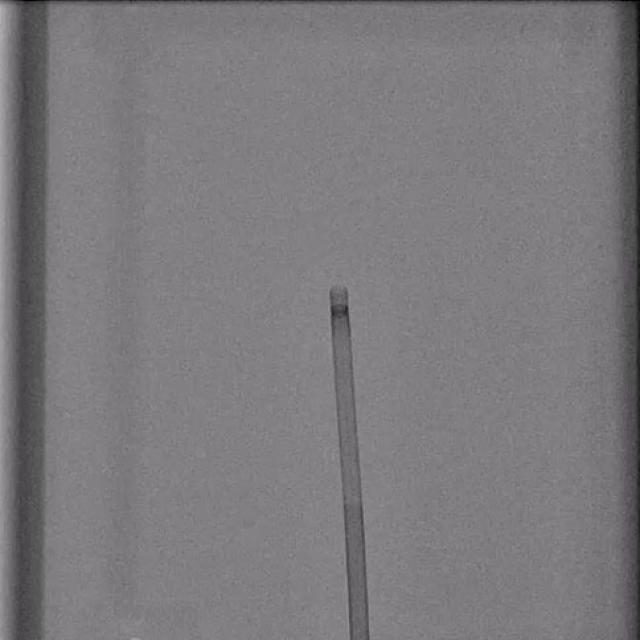bend: (344, 493, 361, 504)
entry: (350, 634, 368, 640)
marker: (331, 305, 349, 319)
tip: (330, 285, 348, 293)
